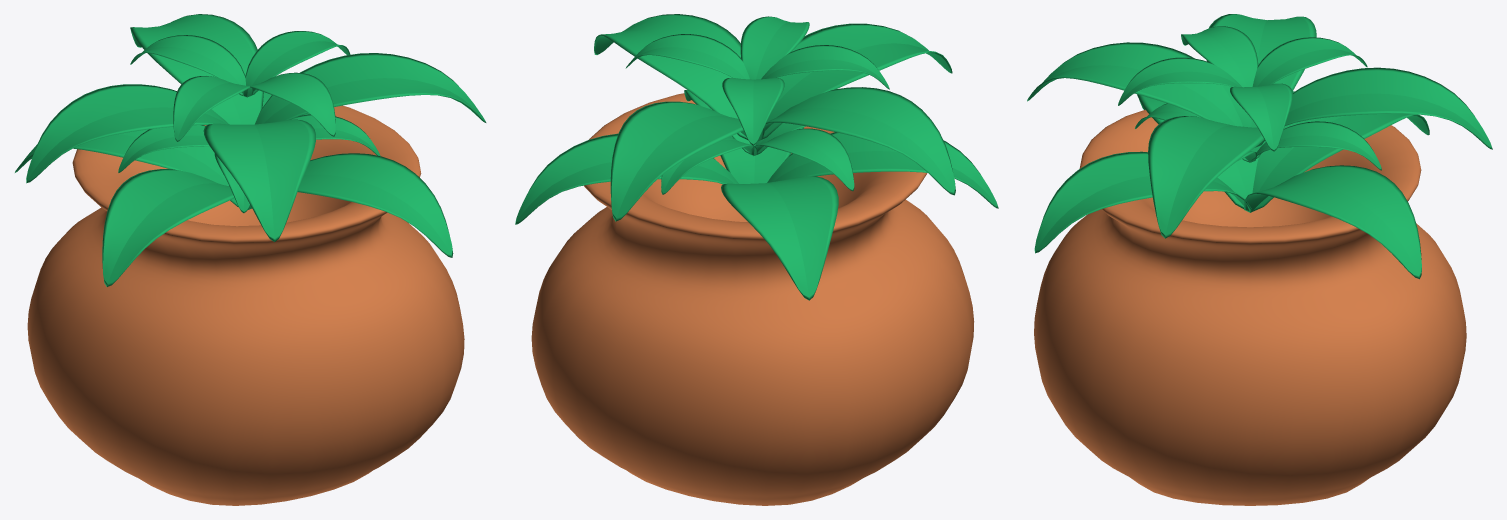
File: Wall_Tile_Vase.fbx
3 views of the same model, side by side, from view 1: azimuth 30°, elevation 25°; view 2: azimuth 150°, elevation 25°; view 3: azimuth 270°, elevation 25° (orthographic).
Parts seen in each view (by area): view 1: Wall_Tile_Vase; view 2: Wall_Tile_Vase; view 3: Wall_Tile_Vase.
Part boxes in pixels (left/top/right/bottom): Wall_Tile_Vase: left=15, top=14, right=486, bottom=505; Wall_Tile_Vase: left=515, top=14, right=998, bottom=505; Wall_Tile_Vase: left=1027, top=14, right=1492, bottom=505.
Bounding box in the file's own units: 2.3 × 2.28 × 2.08.
